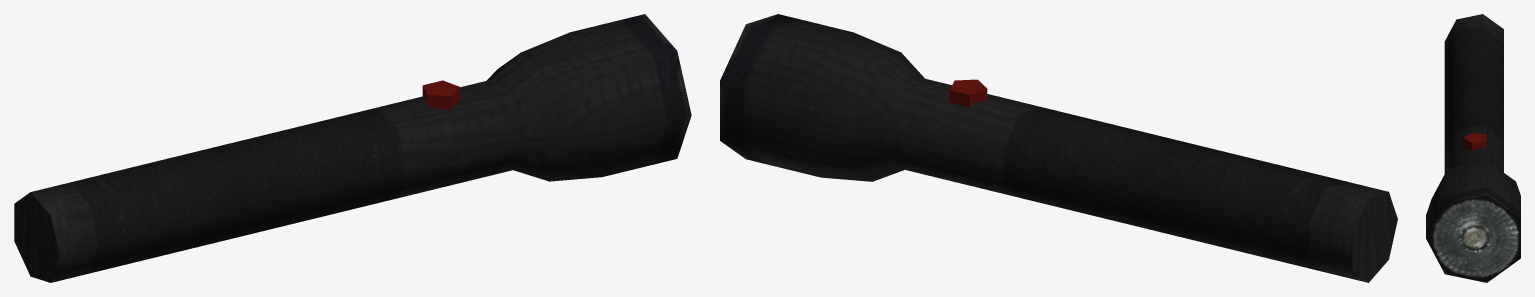
Rendered from flashlight.glb.
3 views of the same model, side by side, from view 1: azimuth 30°, elevation 25°; view 2: azimuth 150°, elevation 25°; view 3: azimuth 270°, elevation 25° (orthographic). The views are drawn at different scales.
Visible parts, largest first — view 1: Lantern_Lantern_0; view 2: Lantern_Lantern_0; view 3: Lantern_Lantern_0.
Part boxes in pixels (left/top/right/bottom): Lantern_Lantern_0: left=14, top=14, right=691, bottom=282; Lantern_Lantern_0: left=720, top=14, right=1397, bottom=282; Lantern_Lantern_0: left=1426, top=14, right=1520, bottom=282.
Size of the model in its own units: 0.4901 by 0.102 by 0.0995.
1 material, 1 textured.
